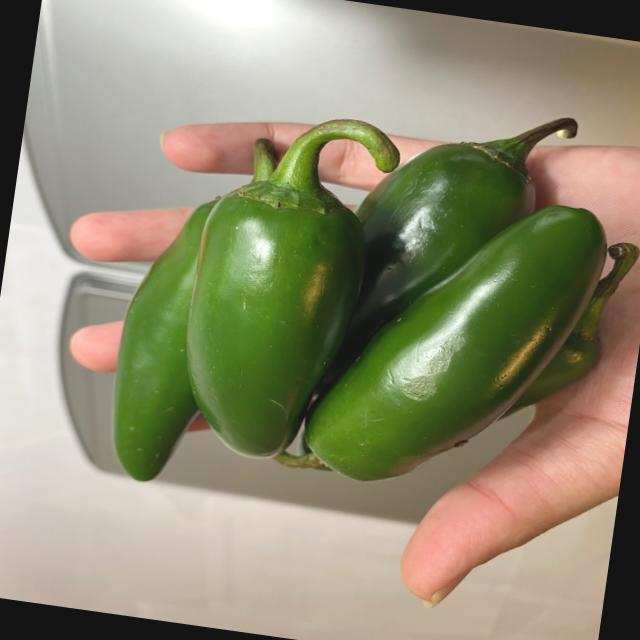chilli: (102, 49, 640, 552)
